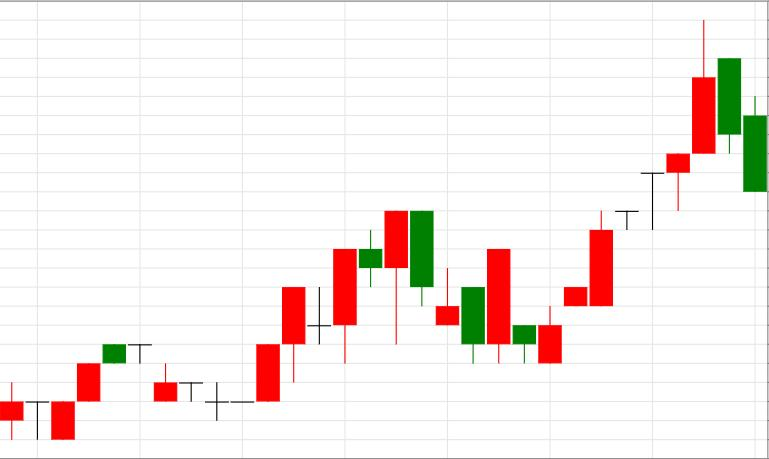hanging_man_fall: (206, 211, 408, 421)
